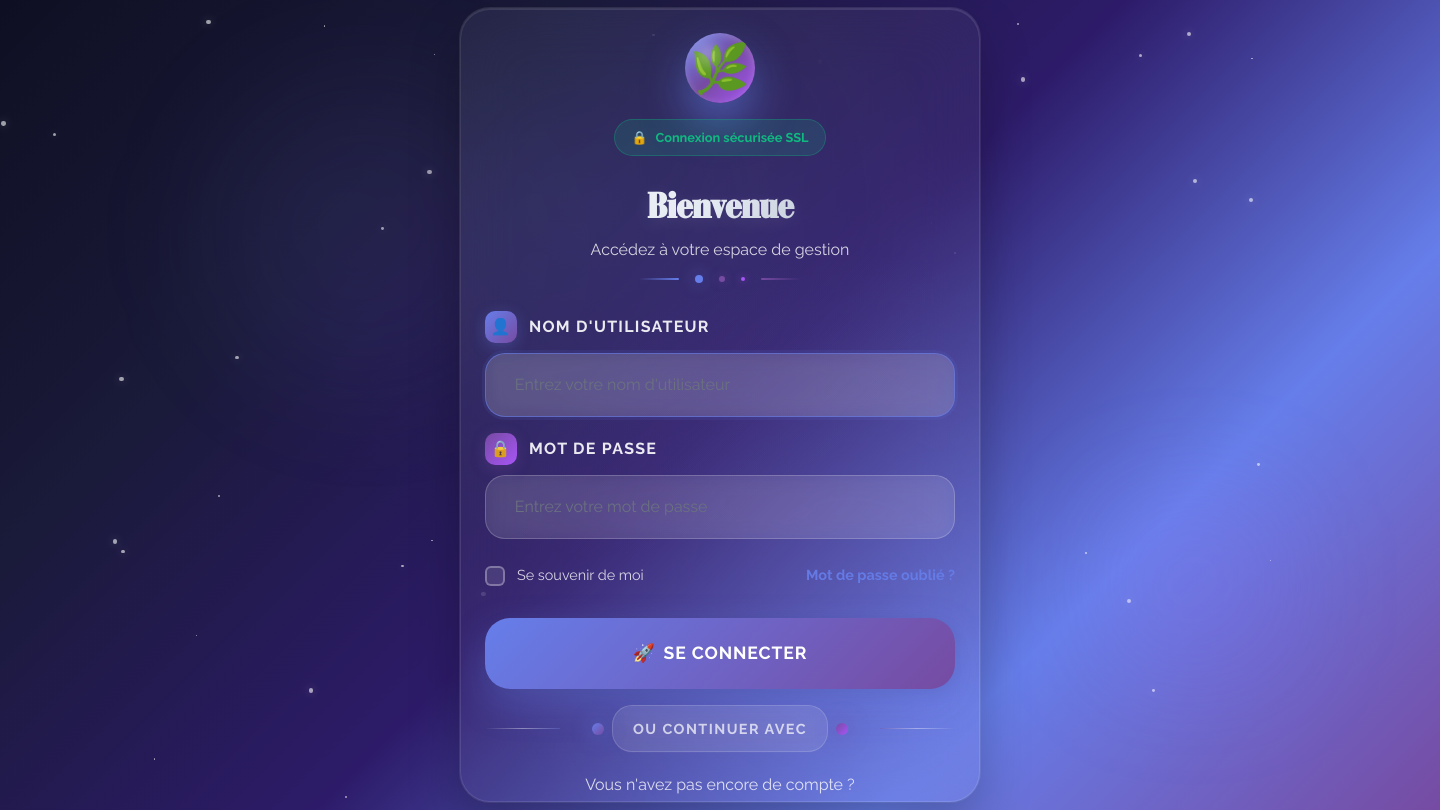
Login page › shows loading state during login
The width and height of the screenshot is (1440, 810).
In the field labelled "👤 Nom d'utilisateur": (720, 385) [485,353,955,417], type "testuser"
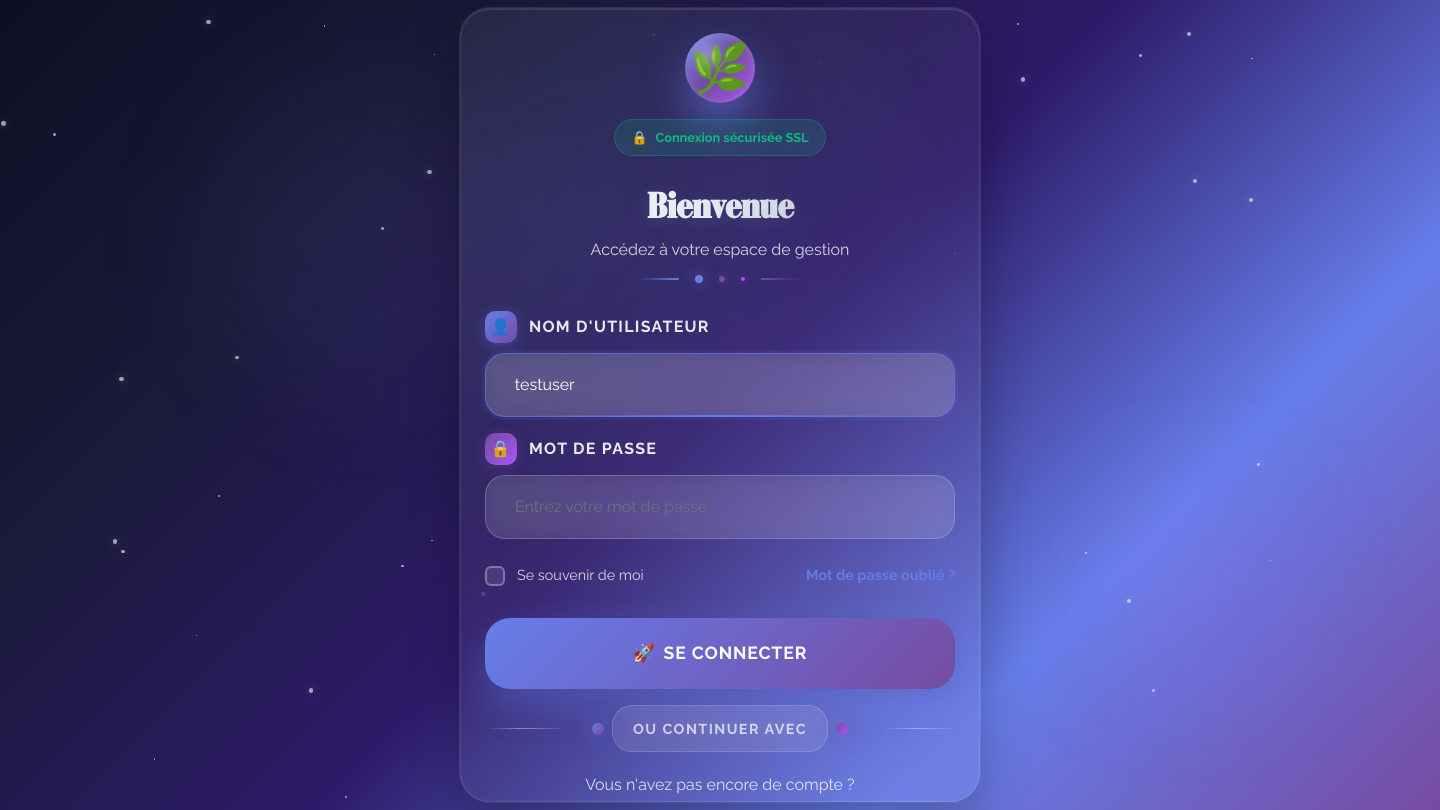
In the password field labelled "🔒 Mot de passe": (720, 507) [485,475,955,539], type "password123"
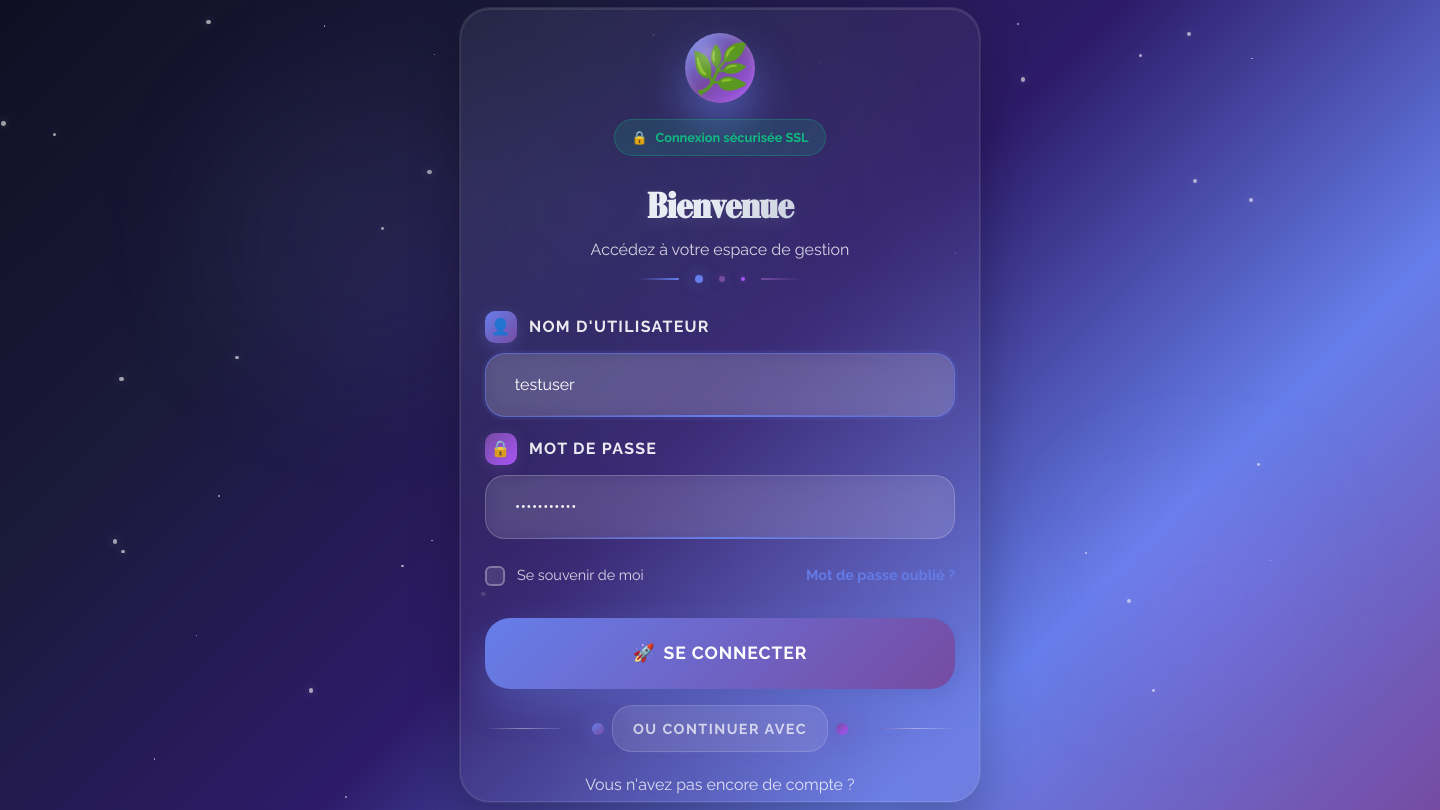
Click the button "🚀 Se connecter": (720, 653) [485,618,955,689]
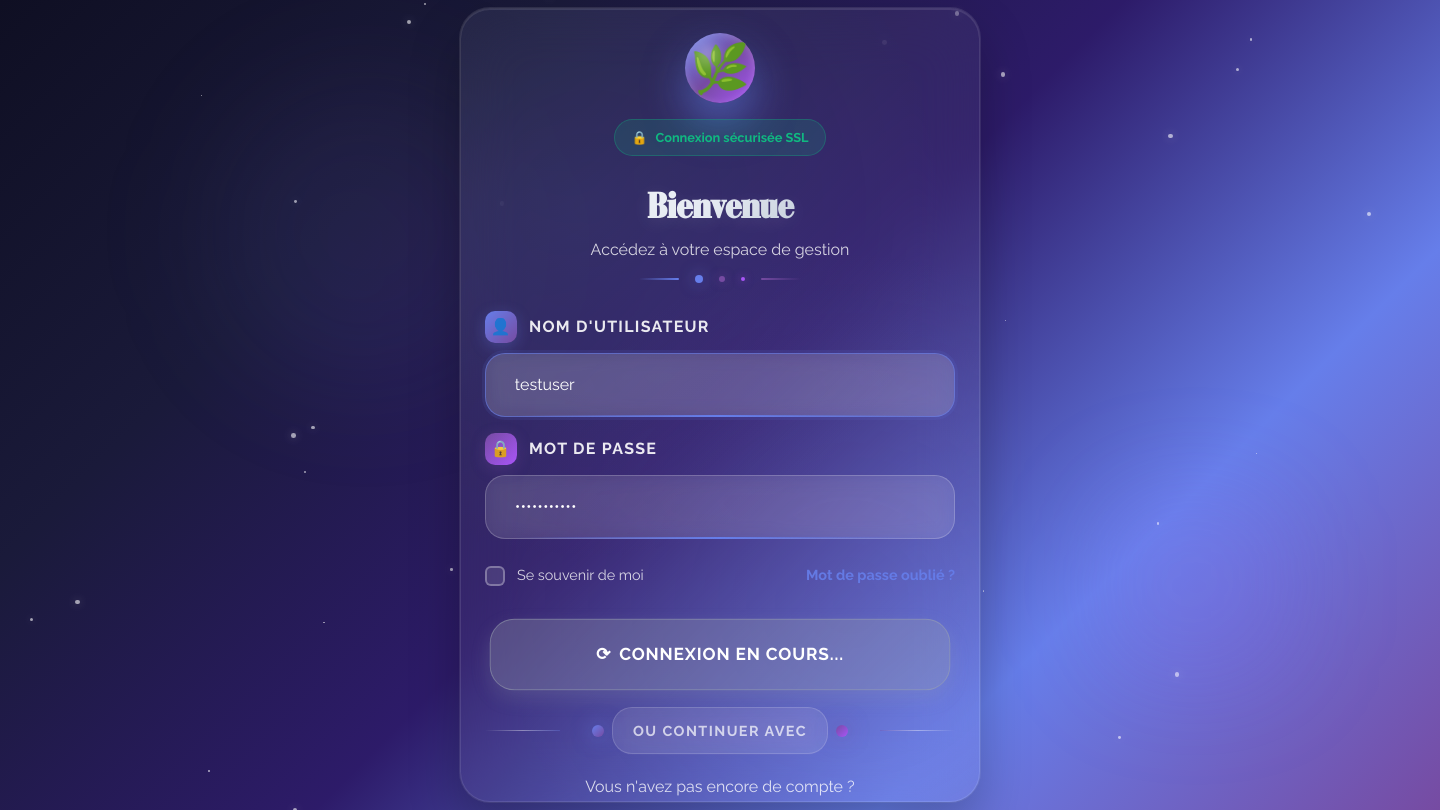
Expected: the text "⟳ Connexion en cours..." is shown, [596,643,844,664]
Expected: the button "⟳ Connexion en cours..." is disabled, [490,618,950,690]
